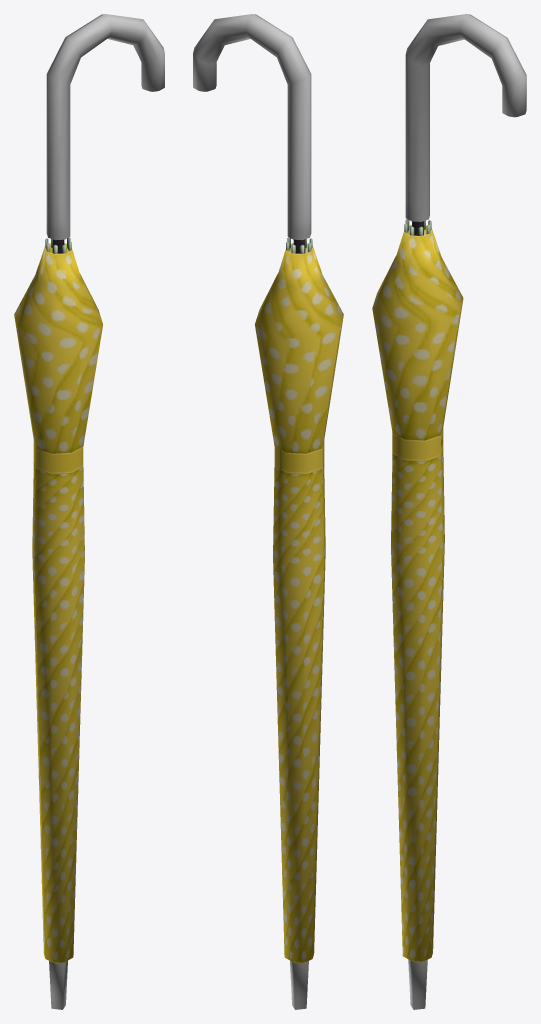
File: set_umbrella_08.fbx
3 renders of one model, left to right at view 1: azimuth 30°, elevation 25°; view 2: azimuth 150°, elevation 25°; view 3: azimuth 330°, elevation 25°, orthographic. The views are drawn at different scales.
Parts seen in each view (by area): view 1: set_umbrella_08; view 2: set_umbrella_08; view 3: set_umbrella_08.
Boxes of the visible parts, left/top/right/bottom form: set_umbrella_08: left=14, top=14, right=164, bottom=1009; set_umbrella_08: left=193, top=14, right=343, bottom=1009; set_umbrella_08: left=372, top=14, right=526, bottom=1009.
Size of the model in its own units: 12.79 by 82.9 by 7.05.
